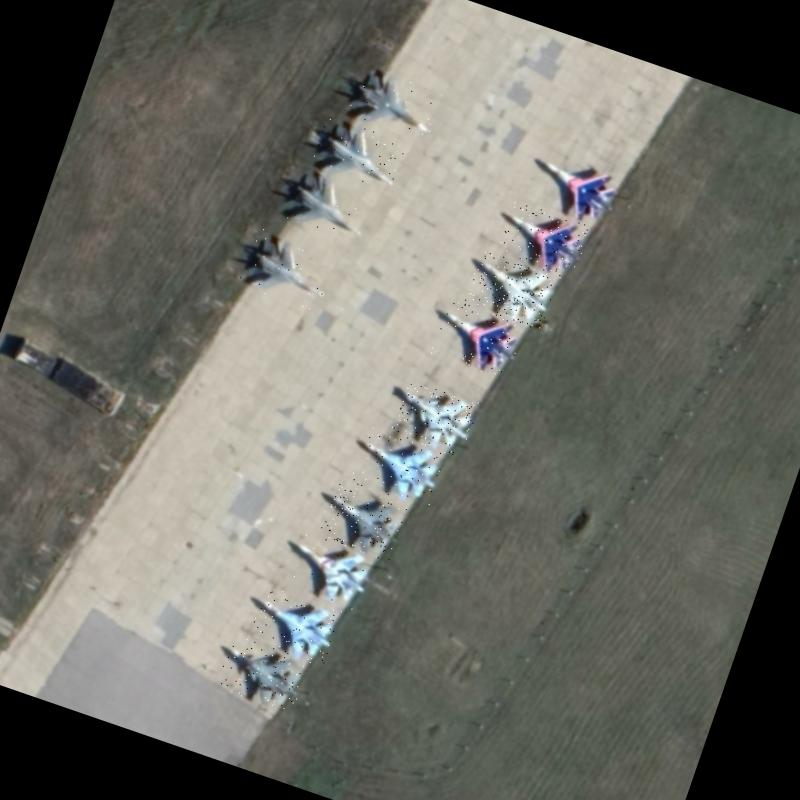A1: (238, 227, 338, 313), (348, 426, 447, 509), (245, 586, 342, 670), (309, 116, 408, 198), (429, 299, 525, 382), (494, 200, 591, 282), (464, 250, 560, 332), (529, 149, 625, 230), (280, 531, 376, 612), (278, 166, 376, 245), (316, 481, 408, 562)
A19: (345, 63, 444, 142), (389, 378, 480, 460), (215, 638, 309, 714)
